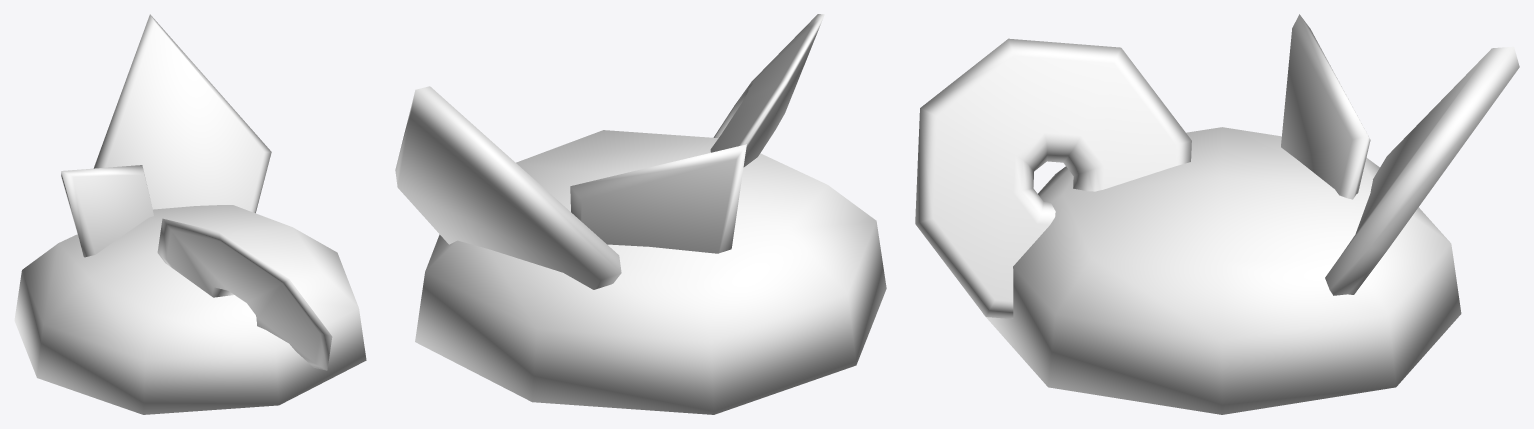
File: GlassRubble.fbx
3 views of the same model, side by side, from view 1: azimuth 30°, elevation 25°; view 2: azimuth 150°, elevation 25°; view 3: azimuth 270°, elevation 25° (orthographic). The views are drawn at different scales.
Parts seen in each view (by area): view 1: GlassRubble; view 2: GlassRubble; view 3: GlassRubble.
Part boxes in pixels (x1,y1,x2,y2): GlassRubble: (14,14,366,414); GlassRubble: (395,14,886,414); GlassRubble: (915,14,1519,414).
Size of the model in its own units: 0.4641 by 0.5821 by 0.7355.
